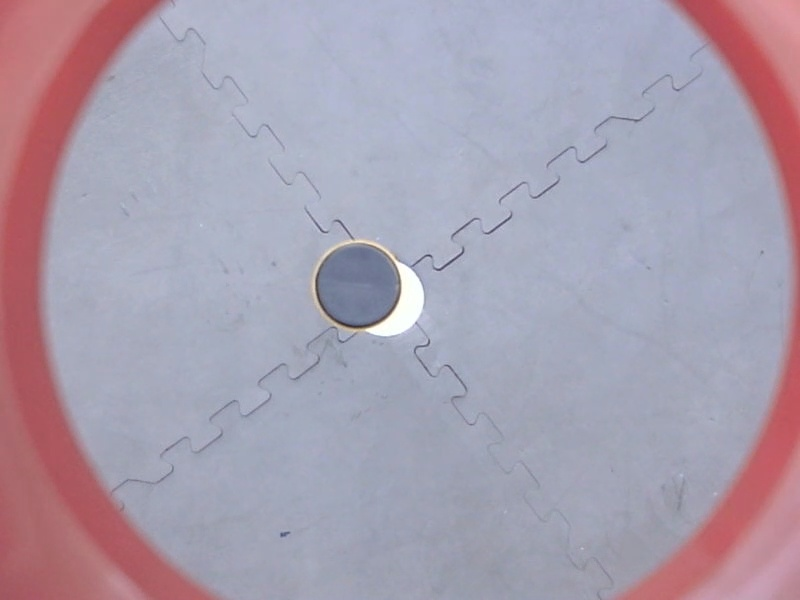tip: (304, 232, 411, 336)
